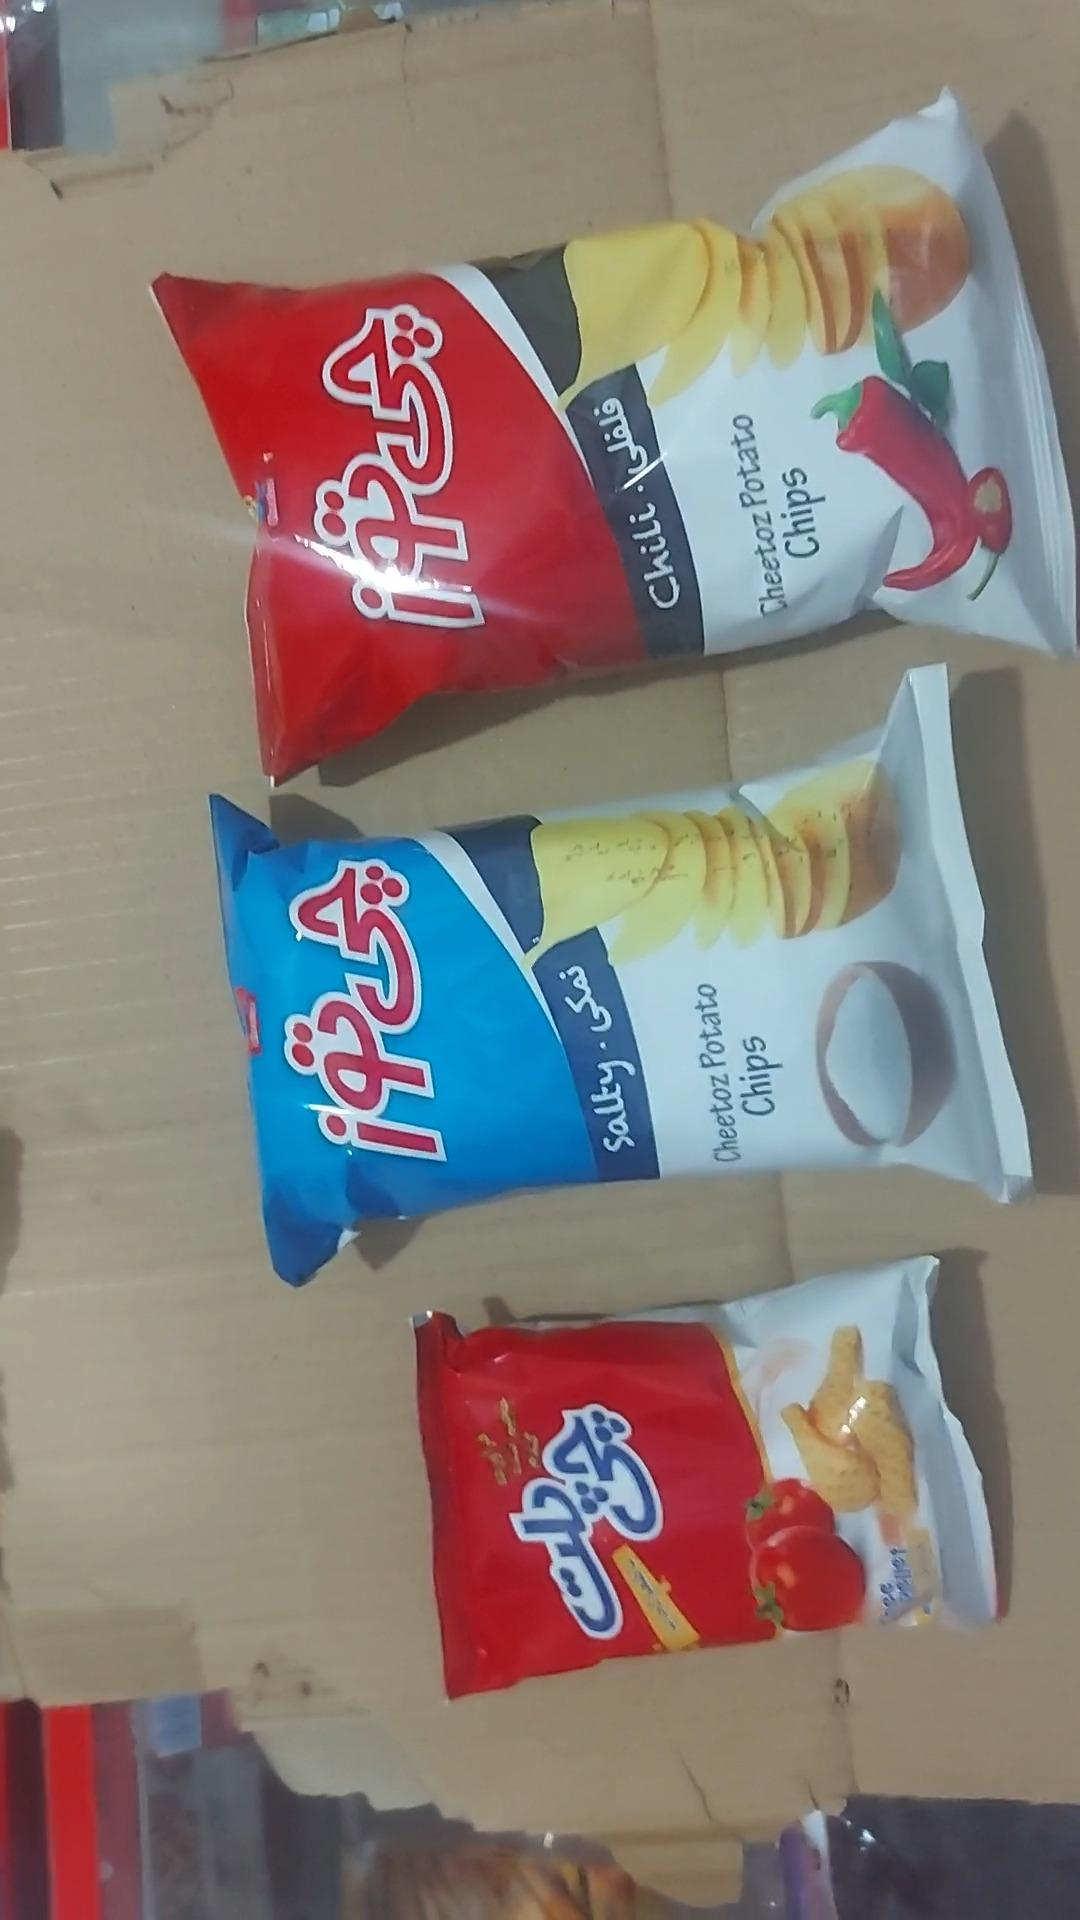Chee pellet ketchup: (410, 1257, 1006, 1702)
Cheetoz chili chips: (152, 91, 1079, 785)
Cheetoz salty chips: (207, 666, 1033, 1291)
